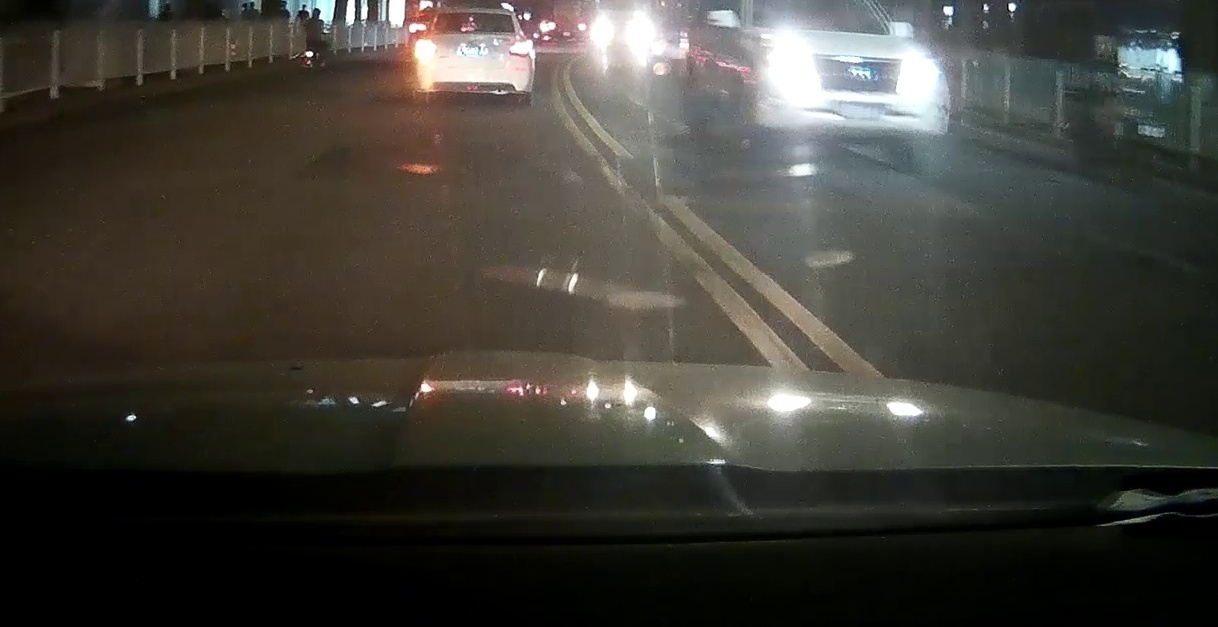L_light: (414, 40, 436, 58)
R_light: (508, 39, 533, 55)
T_light: (461, 26, 476, 31)
night-left: (414, 6, 535, 106)
